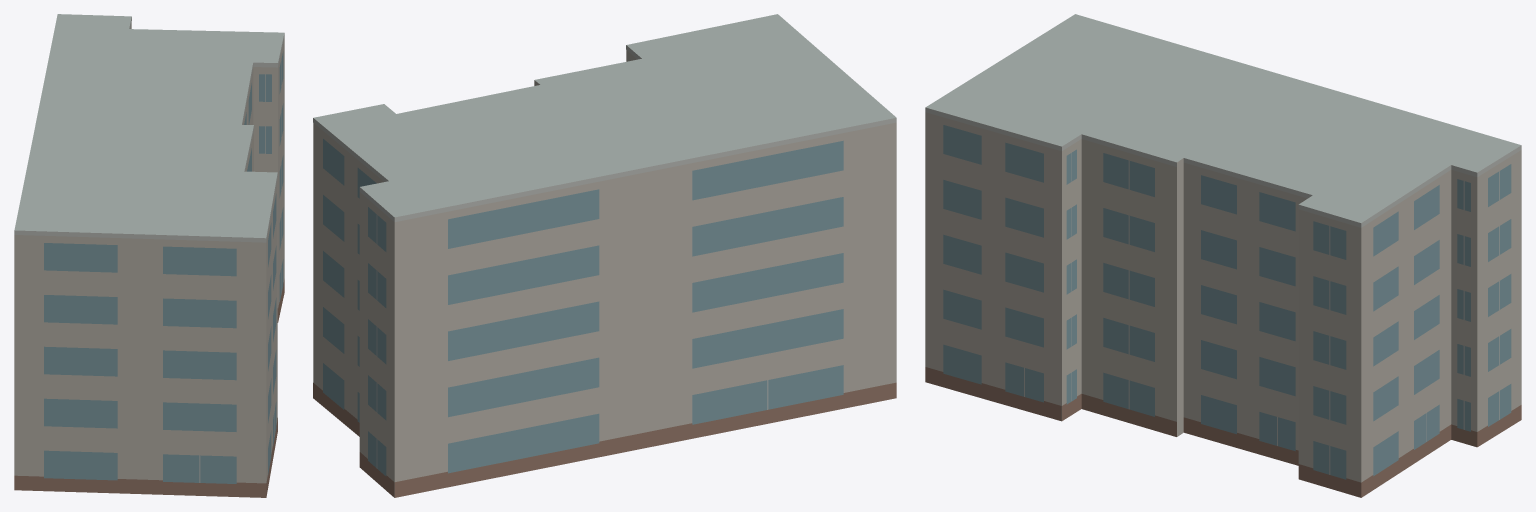
The model's file is survey-upis-32491874.glb.
3 renders of one model, left to right at view 1: azimuth 30°, elevation 25°; view 2: azimuth 150°, elevation 25°; view 3: azimuth 270°, elevation 25°, orthographic. The views are drawn at different scales.
Visible parts, largest first — view 1: survey-upis-32491874.tmp; view 2: survey-upis-32491874.tmp; view 3: survey-upis-32491874.tmp.
Boxes of the visible parts, bbox=[...] form: survey-upis-32491874.tmp: bbox=[14, 14, 284, 497]; survey-upis-32491874.tmp: bbox=[313, 14, 896, 497]; survey-upis-32491874.tmp: bbox=[925, 14, 1521, 497].
Size of the model in its own units: 23.45 by 14.35 by 28.24.
